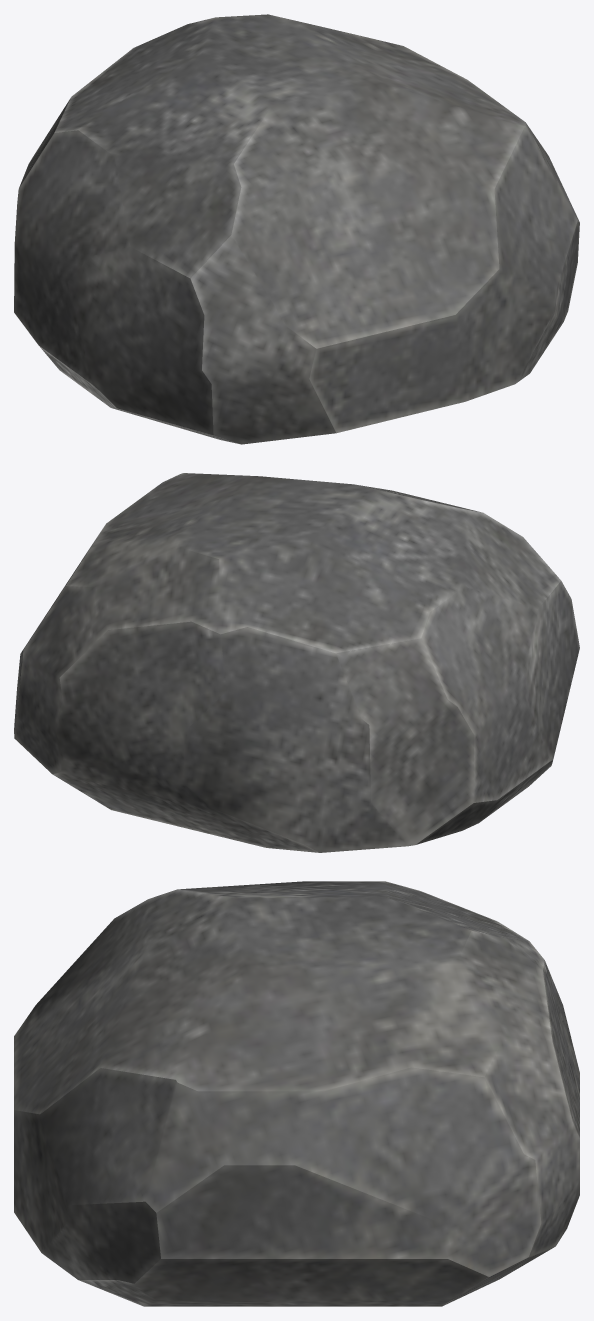
The model's file is Rock10_Dream.glb.
3 views of the same model, one above another, from view 1: azimuth 30°, elevation 25°; view 2: azimuth 150°, elevation 25°; view 3: azimuth 270°, elevation 25° (orthographic). The views are drawn at different scales.
Visible parts, largest first — view 1: rock10_dream; view 2: rock10_dream; view 3: rock10_dream.
Part boxes in pixels (x1=…): rock10_dream: x1=14, y1=14, x2=579, y2=444; rock10_dream: x1=14, y1=473, x2=579, y2=852; rock10_dream: x1=14, y1=881, x2=579, y2=1306.
Size of the model in its own units: 0.5232 by 0.3074 by 0.5232.
1 material, 1 textured.
